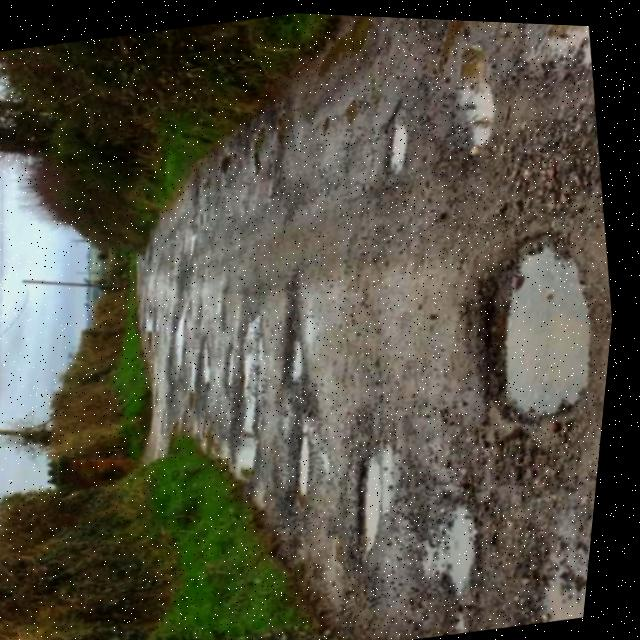Pothole: (430, 164, 629, 447), (318, 385, 473, 575), (375, 14, 536, 178), (190, 294, 307, 495), (499, 465, 606, 623), (395, 484, 501, 620), (344, 64, 427, 210), (493, 17, 601, 108), (150, 280, 227, 401), (268, 292, 345, 405), (272, 404, 355, 504), (175, 146, 239, 245), (180, 320, 242, 415), (238, 90, 305, 175), (122, 278, 176, 353), (211, 119, 260, 190)
